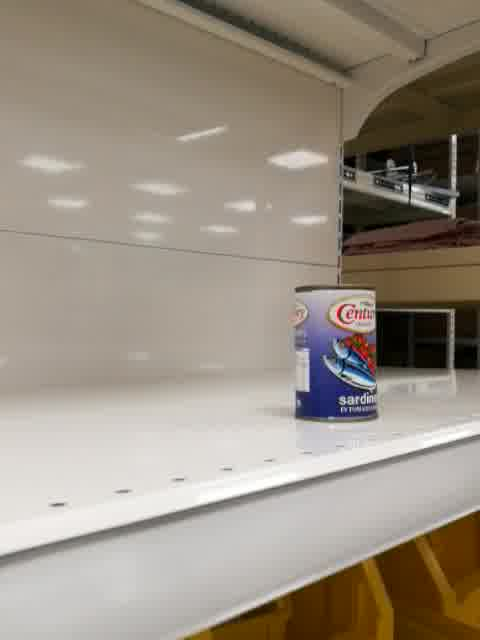sardine: (291, 285, 380, 424)
